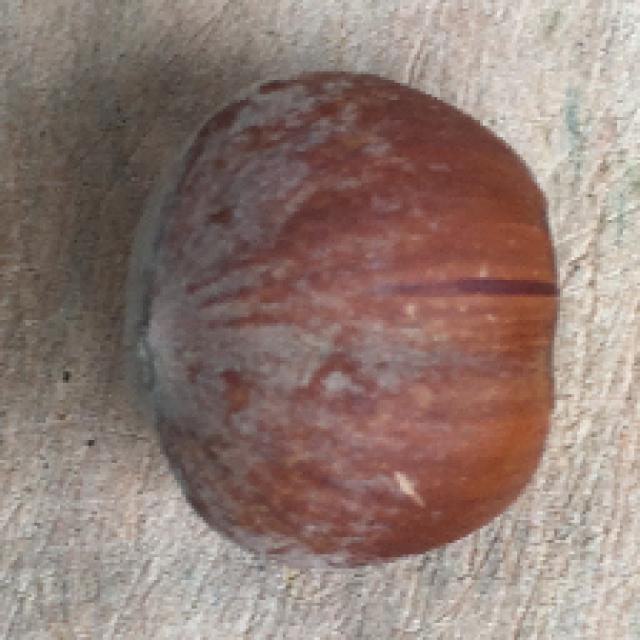qualityHazelnut: (122, 66, 570, 569)
